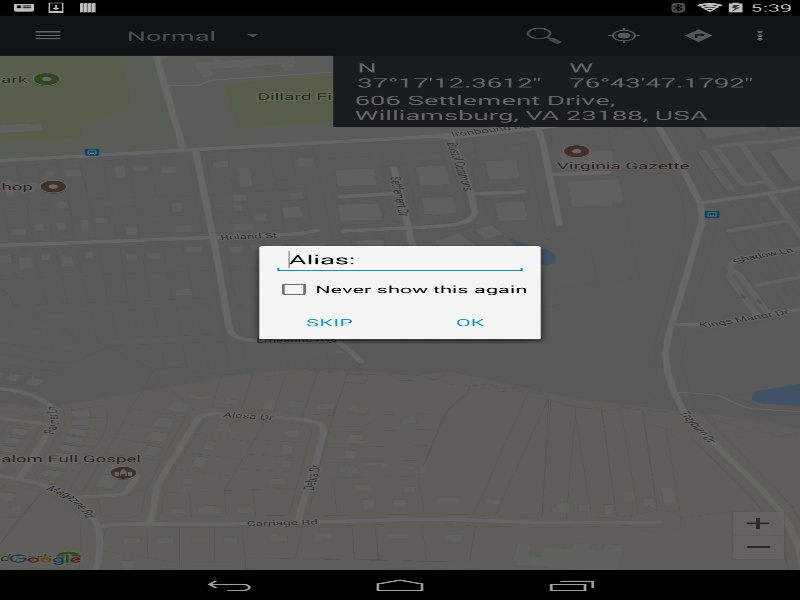Button: (259, 305, 400, 339), (400, 305, 540, 339)
Input: (272, 246, 527, 273)
